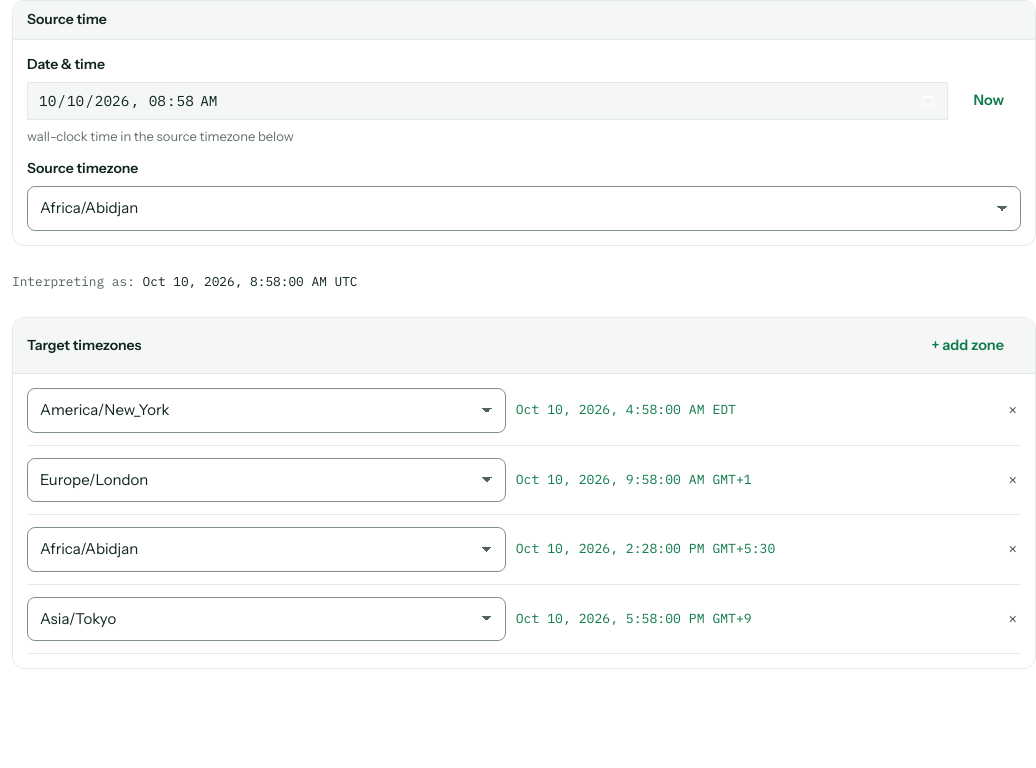
Test case: TimezoneConverter › removes a target zone when × button is clicked
What coordinates should you click on to do the following:
click the button titled "Remove" in the row of "Oct 10, 2026, 4:58:00 AM EDT"
I would click on:
 (1013, 410)
Its box is [1004, 398, 1021, 423].
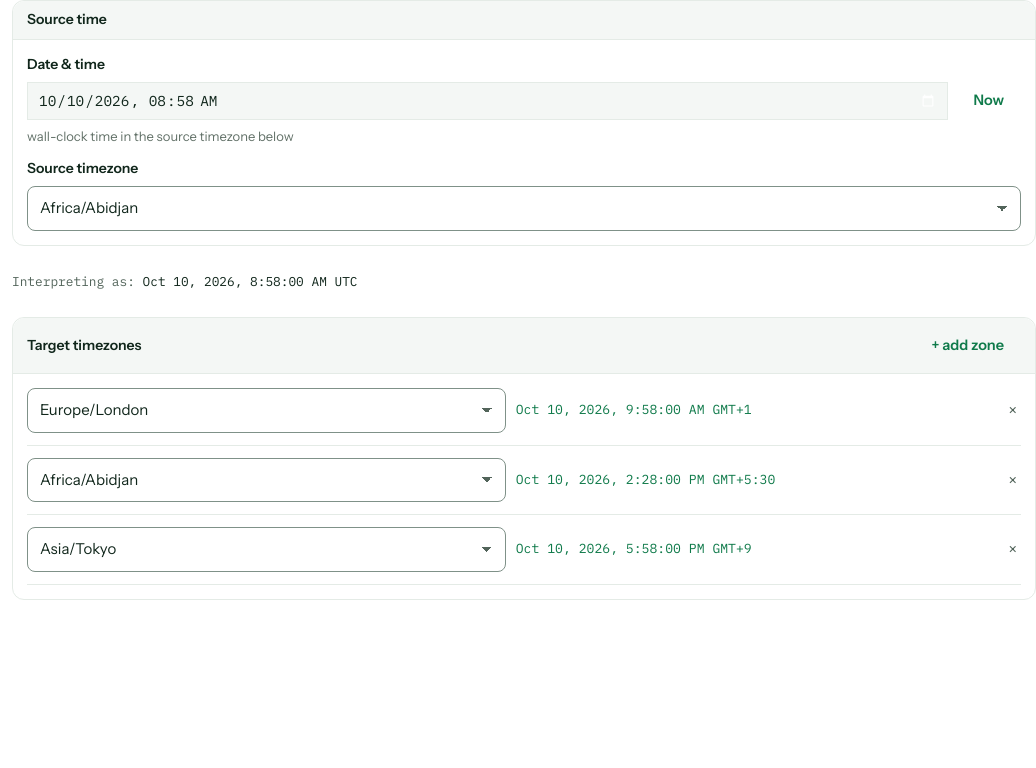
Now the number of dropdowns is 4, box [27, 186, 1021, 230]; [27, 388, 506, 433]; [27, 458, 506, 502]; [27, 527, 506, 572]
